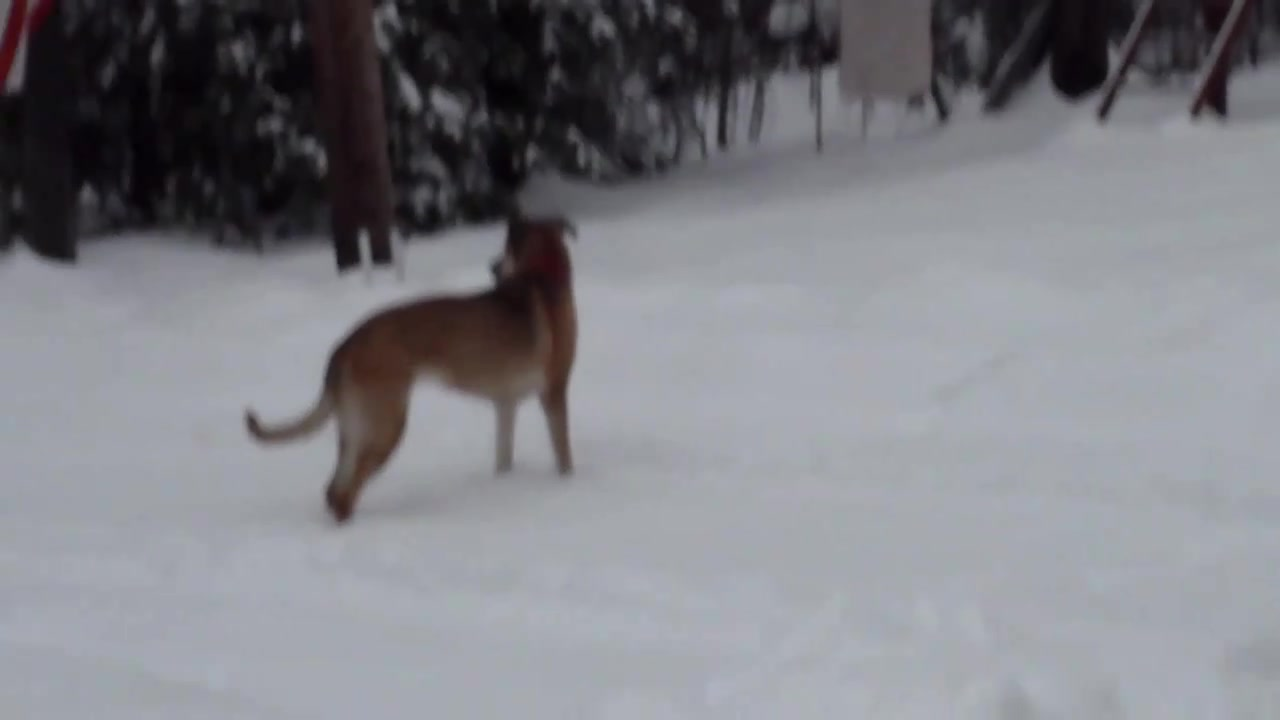dog: (241, 210, 584, 528)
